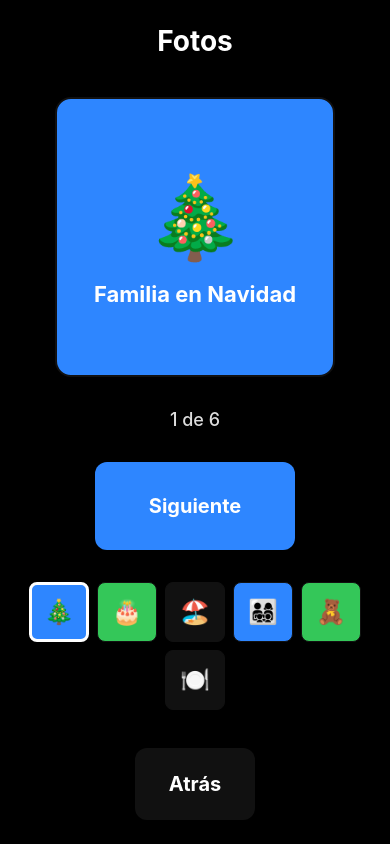
PhotosScreen › allows direct photo selection via thumbnails
The image size is (390, 844).
Check: the text "Familia en Navidad" is shown, box [78,280,312,306]
// Find and press the third thumbnail (index 2)
Click the button "🏖️": {"x": 195, "y": 612} [165,582,225,642]
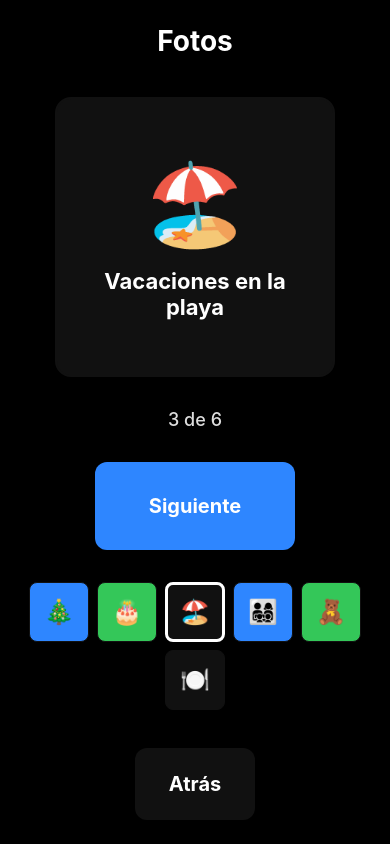
Check: the text "Vacaciones en la playa" is shown, box [104,268,291,320]
Check: the text "3 de 6" is shown, box [168,408,222,430]
